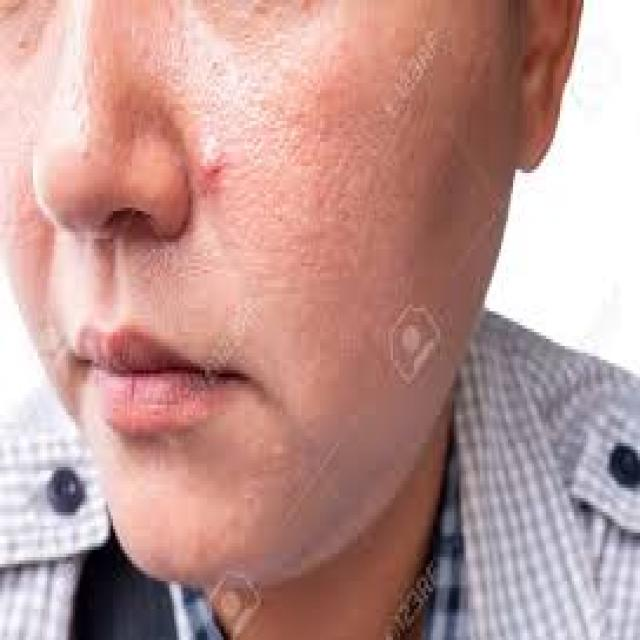Acne: (170, 99, 238, 215)
Oily-Skin: (80, 41, 523, 498)
